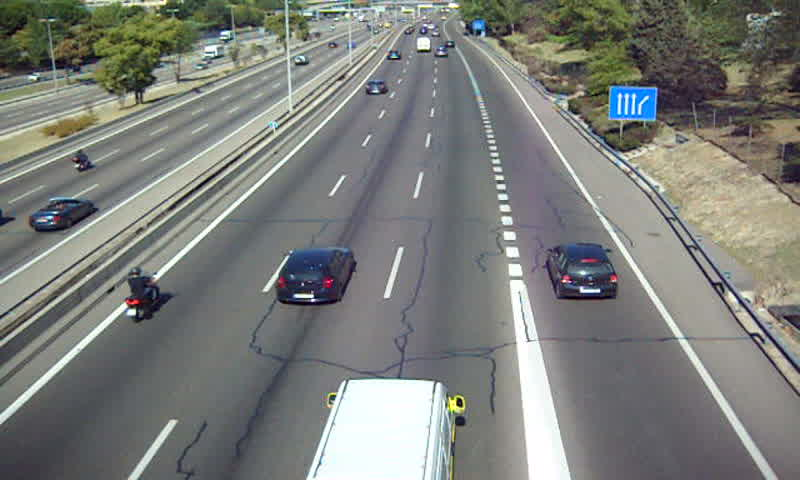car: (276, 246, 354, 304), (549, 245, 618, 299), (363, 80, 388, 98)
motorcycle: (124, 266, 164, 324)
van: (303, 381, 464, 480)
